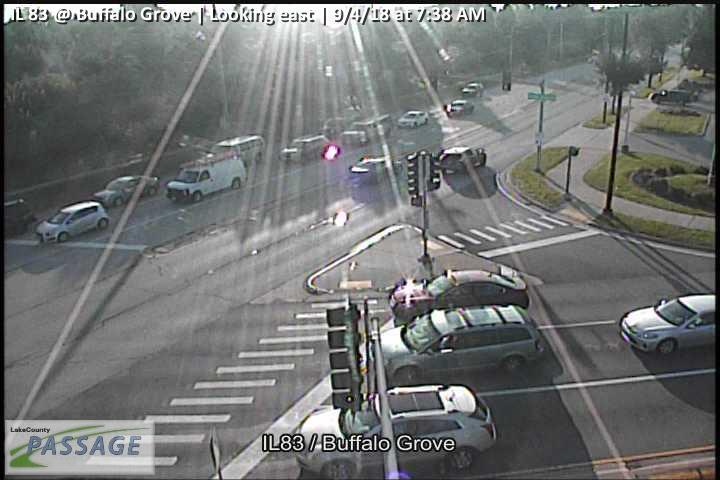SUV: (293, 383, 497, 480), (362, 303, 547, 383), (165, 155, 247, 204), (33, 199, 110, 246), (210, 134, 264, 168), (277, 134, 333, 162), (349, 157, 403, 186), (439, 146, 485, 173)
Sedan: (391, 269, 531, 327), (617, 294, 717, 354), (91, 176, 159, 209), (397, 110, 429, 129)
